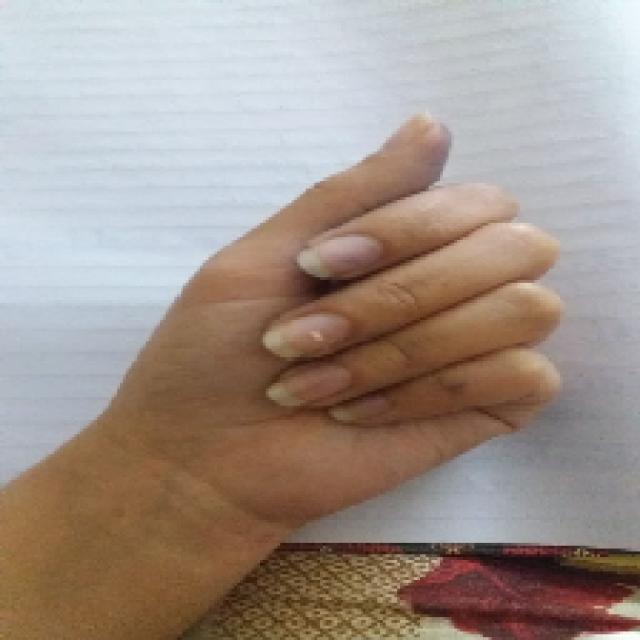Nail: (262, 312, 349, 358), (299, 236, 382, 277), (269, 366, 351, 407), (381, 114, 431, 150), (330, 394, 389, 422)
